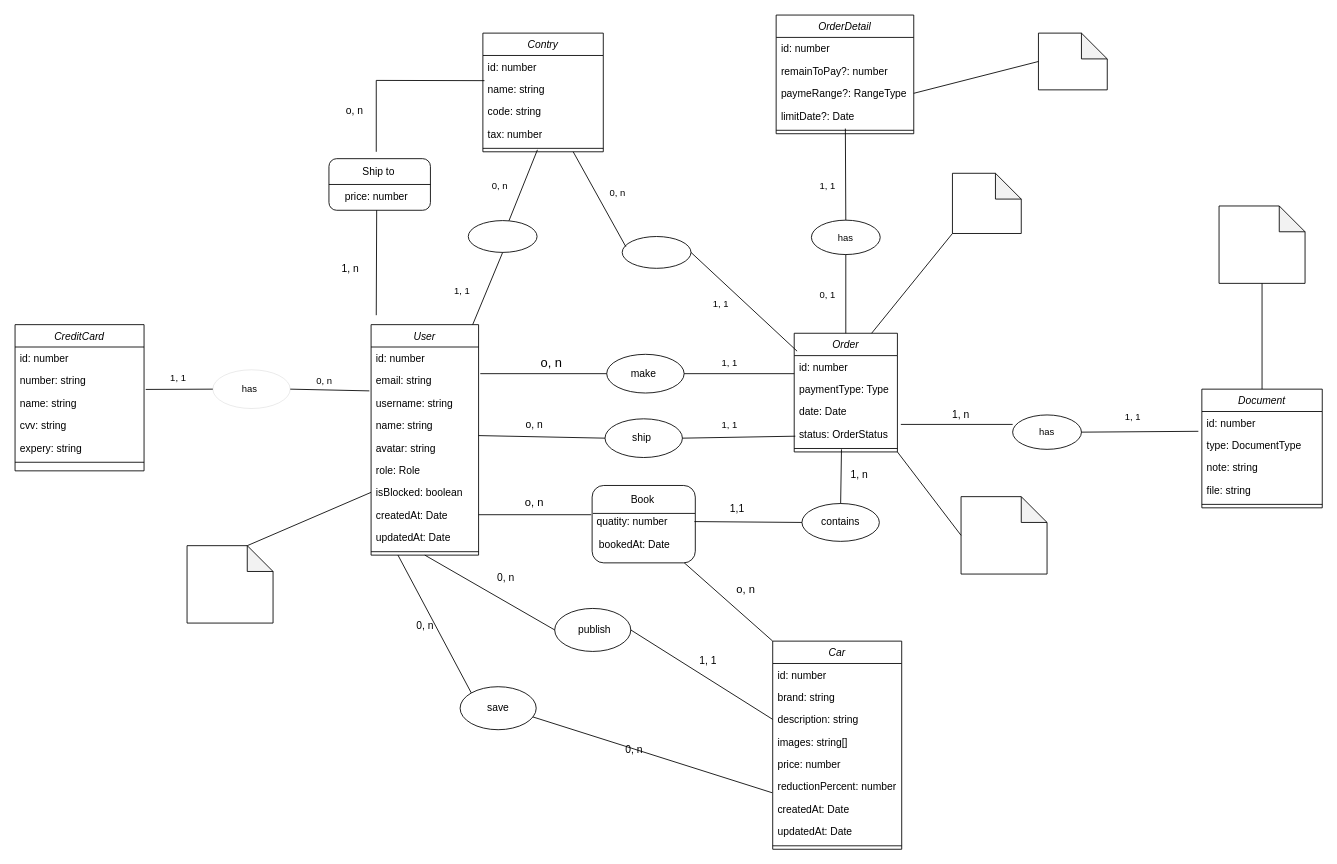
The diagram is 1337 pixels wide and 864 high, and some of its shapes have lost their labels. Each missing label, with the centre of its shape:
deliver in: pixel 656 252
DocumentType - Imatriculation - Certificate - purchaseForm: pixel 1261 244
life at: pixel 502 236
OrderStatus - Pending - Cancelled - Validated - Rejected - Delivered: pixel 1003 535
PaymentType - TotalPay - CreditPay: pixel 986 202
RangeType - x2 - x3 - x5: pixel 1072 61
Role - Customer - Shipper - Admin: pixel 229 584
